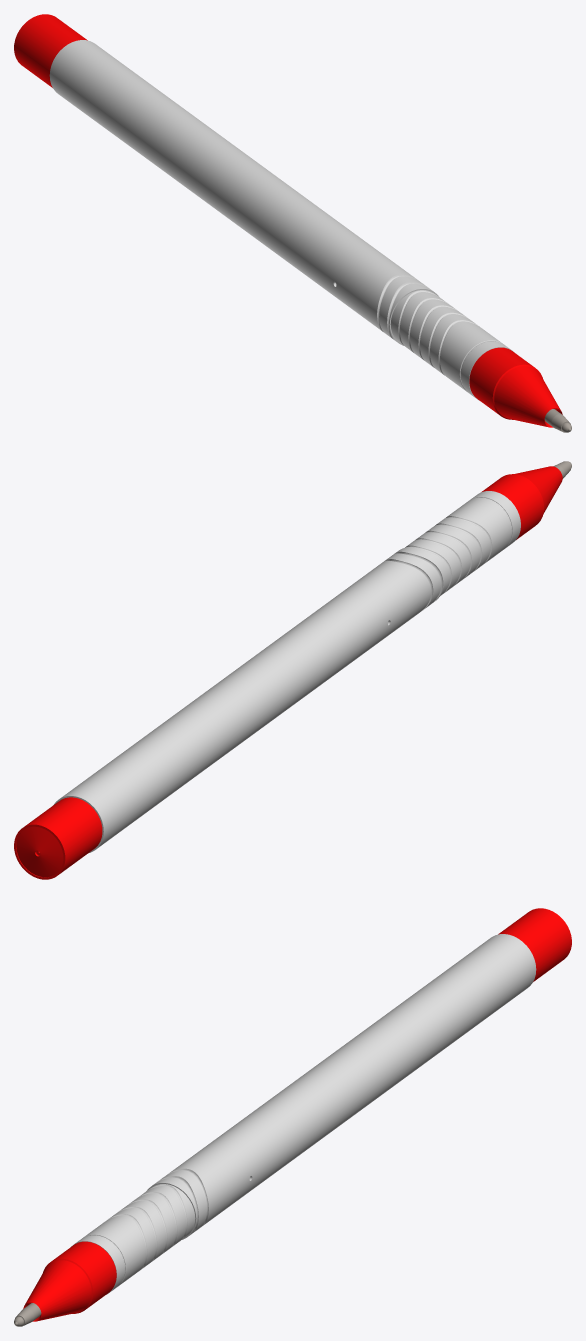
3 renders of one model, top to bottom at view 1: azimuth 30°, elevation 25°; view 2: azimuth 150°, elevation 25°; view 3: azimuth 330°, elevation 25°, orthographic.
Visible parts, largest first — view 1: kianpen, headpen, endpen; view 2: kianpen, endpen, headpen; view 3: kianpen, headpen, endpen.
Part boxes in pixels (bbox=[...]): kianpen: bbox=[49, 40, 514, 400]; headpen: bbox=[469, 347, 562, 427]; endpen: bbox=[14, 14, 87, 87]; kianpen: bbox=[53, 491, 520, 852]; endpen: bbox=[14, 797, 102, 879]; headpen: bbox=[482, 466, 562, 539]; kianpen: bbox=[71, 934, 536, 1294]; headpen: bbox=[23, 1241, 116, 1321]; endpen: bbox=[498, 908, 571, 981].
Size of the model in its own units: 0.0566 by 0.0565 by 0.9626.
